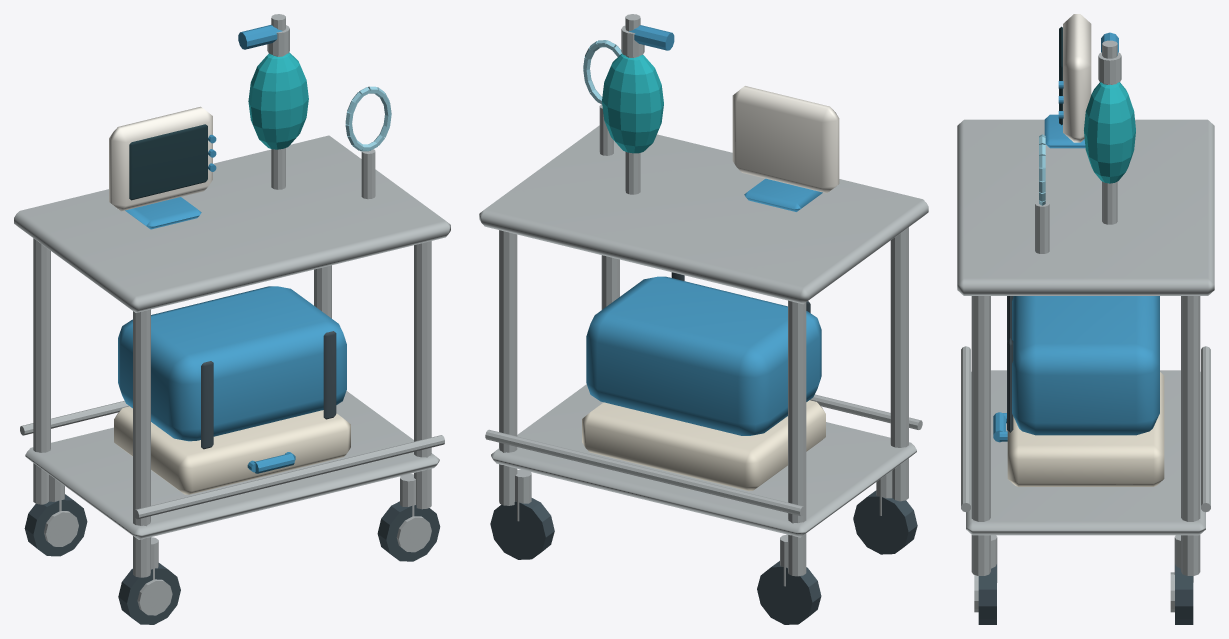
The model's file is AirReady_starter.glb.
3 renders of one model, left to right at view 1: azimuth 30°, elevation 25°; view 2: azimuth 150°, elevation 25°; view 3: azimuth 270°, elevation 25°, orthographic. The views are drawn at different scales.
Parts seen in each view (by area): view 1: Static_steel, Static_blue, Static_ivory, Static_dark, Static_screen, Static_teal, Static_white, Static_lightblue; view 2: Static_steel, Static_blue, Static_ivory, Static_white, Static_dark, Static_teal, Static_lightblue; view 3: Static_steel, Static_blue, Static_ivory, Static_teal, Static_white, Static_dark, Static_lightblue.
Part boxes in pixels (<box>): Static_steel: <box>14,14,450,615</box>; Static_blue: <box>118,25,346,473</box>; Static_ivory: <box>114,406,350,494</box>; Static_dark: <box>24,331,440,624</box>; Static_screen: <box>129,124,207,200</box>; Static_teal: <box>248,52,308,149</box>; Static_white: <box>109,106,212,211</box>; Static_lightblue: <box>345,86,391,151</box>; Static_steel: <box>479,14,928,586</box>; Static_blue: <box>586,25,822,435</box>; Static_ivory: <box>582,400,825,491</box>; Static_white: <box>732,86,839,193</box>; Static_dark: <box>490,272,917,624</box>; Static_teal: <box>602,53,663,153</box>; Static_lightblue: <box>583,40,621,104</box>; Static_steel: <box>957,40,1214,612</box>; Static_blue: <box>993,32,1159,442</box>; Static_ivory: <box>1007,372,1164,486</box>; Static_teal: <box>1084,82,1135,183</box>; Static_white: <box>1063,14,1091,142</box>; Static_dark: <box>978,296,1193,624</box>; Static_lightblue: <box>1039,134,1045,205</box>.
Bounding box in the file's own units: 0.89 × 1.37 × 0.59.
